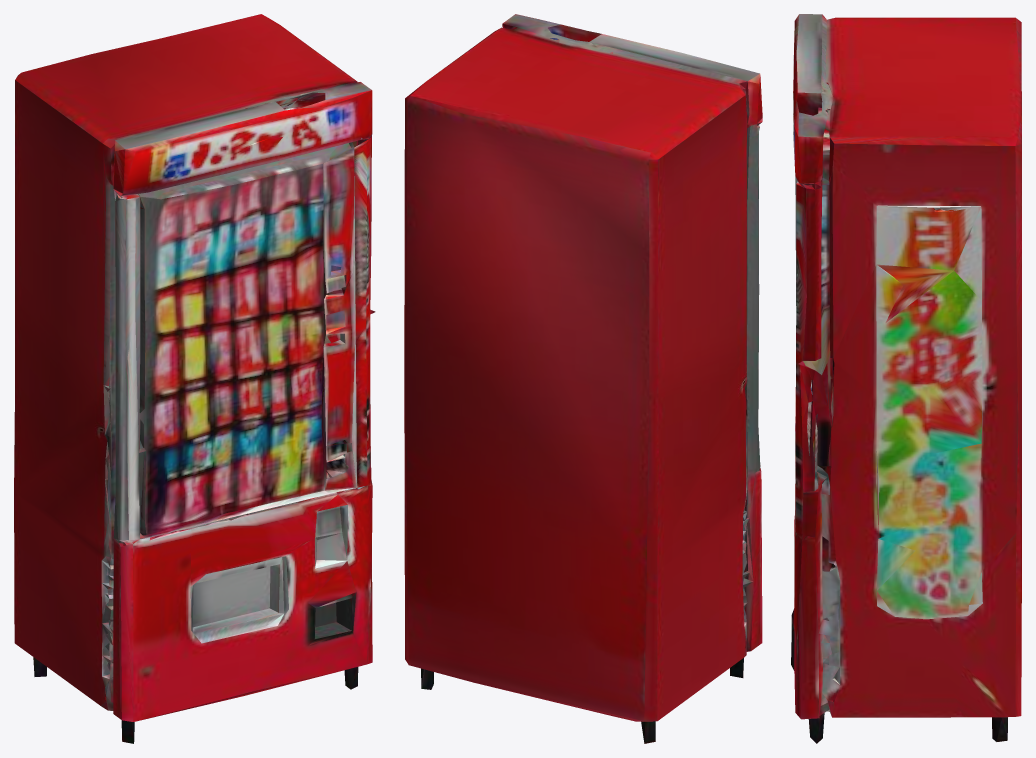
The model's file is vending_machine.glb.
The picture shows the model from 3 angles, left to right: view 1: azimuth 30°, elevation 25°; view 2: azimuth 150°, elevation 25°; view 3: azimuth 270°, elevation 25°; orthographic projection.
Parts seen in each view (by area): view 1: vending_machine; view 2: vending_machine; view 3: vending_machine.
Boxes of the visible parts, <box> form: vending_machine: <box>14,14,375,743</box>; vending_machine: <box>404,14,762,743</box>; vending_machine: <box>791,14,1021,743</box>.
Size of the model in its own units: 0.8167 by 1.83 by 0.6268.
Materials: 1 (1 with a texture image).
